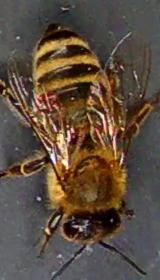varroa_mite: (30, 86, 60, 111)
